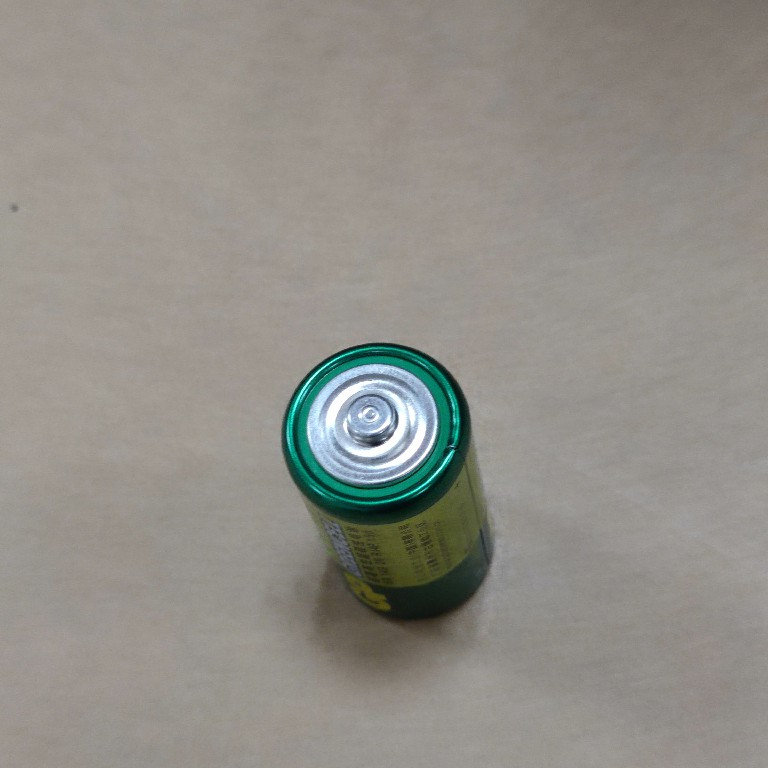charge: (270, 336, 518, 630)
